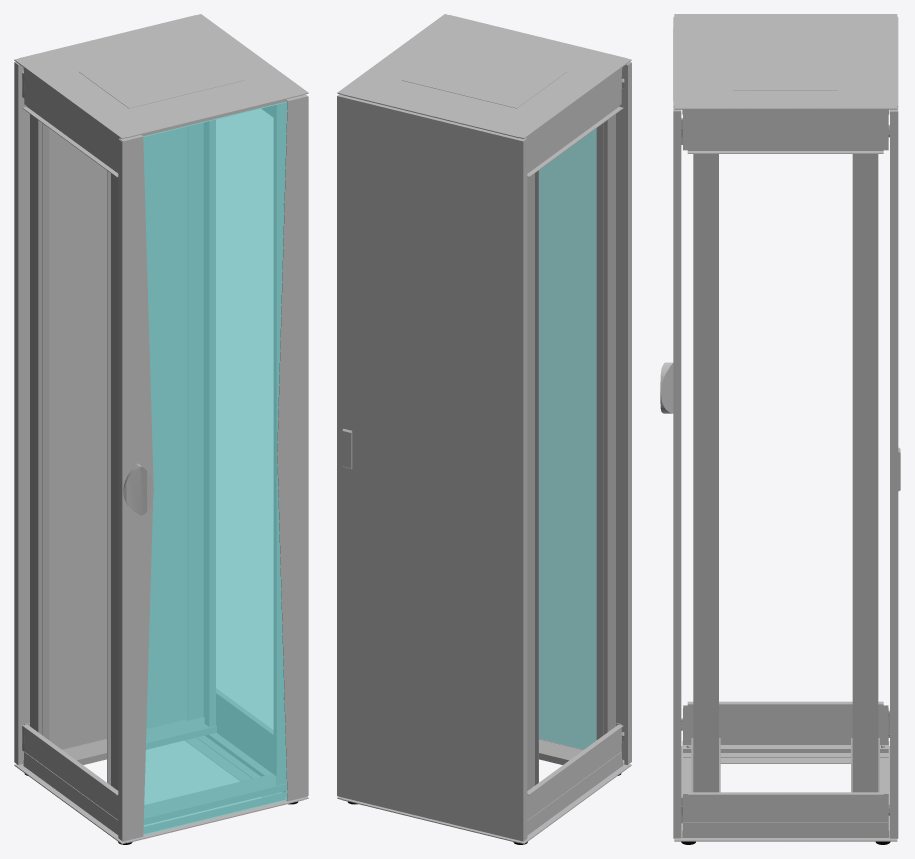
3 views of the same model, side by side, from view 1: azimuth 30°, elevation 25°; view 2: azimuth 150°, elevation 25°; view 3: azimuth 270°, elevation 25° (orthographic). The views are drawn at different scales.
Visible parts, largest first — view 1: 7622X_01_15_02, 7622X_01_15(RAL 7035,2), 7622X_00_30(2) (×2), 76X6_00_13(RAL 7035,2), 7622X_01_15_03(RAL 7035,2), 7622X_01_15_01(RAL 7035,2), 600x600_11_00_11(RAL 7035,2); view 2: 7622X_01_15(RAL 7035,2), 7622X_01_15_02, 76X6_00_13(RAL 7035,2), 7622X_00_30(2) (×2), 7622X_01_15_03(RAL 7035,2), 600x600_11_00_11(RAL 7035,2); view 3: 7622X_00_30(2) (×2), 76X6_00_13(RAL 7035,2), 600x600_11_00_11(RAL 7035,2), 7622X_01_15(RAL 7035,2), 7622X_01_15_01(RAL 7035,2), 7622X_01_15_03(RAL 7035,2).
Part boxes in pixels (x1,y1,x2,y2): 7622X_01_15_02: (143,101,287,834); 7622X_01_15(RAL 7035,2): (14,61,186,764); 7622X_00_30(2) (×2): (30,102,286,824); 76X6_00_13(RAL 7035,2): (14,14,308,177); 7622X_01_15_03(RAL 7035,2): (118,135,153,841); 7622X_01_15_01(RAL 7035,2): (277,94,308,801); 600x600_11_00_11(RAL 7035,2): (14,689,308,844); 7622X_01_15(RAL 7035,2): (337,94,527,841); 7622X_01_15_02: (539,128,596,749); 76X6_00_13(RAL 7035,2): (337,14,631,177); 7622X_00_30(2) (×2): (527,114,615,790); 7622X_01_15_03(RAL 7035,2): (616,62,631,764); 600x600_11_00_11(RAL 7035,2): (337,723,631,844); 7622X_00_30(2) (×2): (691,154,879,792); 76X6_00_13(RAL 7035,2): (673,14,897,153); 600x600_11_00_11(RAL 7035,2): (673,701,897,841); 7622X_01_15(RAL 7035,2): (890,17,900,838); 7622X_01_15_01(RAL 7035,2): (673,101,681,838); 7622X_01_15_03(RAL 7035,2): (660,17,680,413).
Size of the model in its own units: 0.599 by 2.18 by 0.6426.
